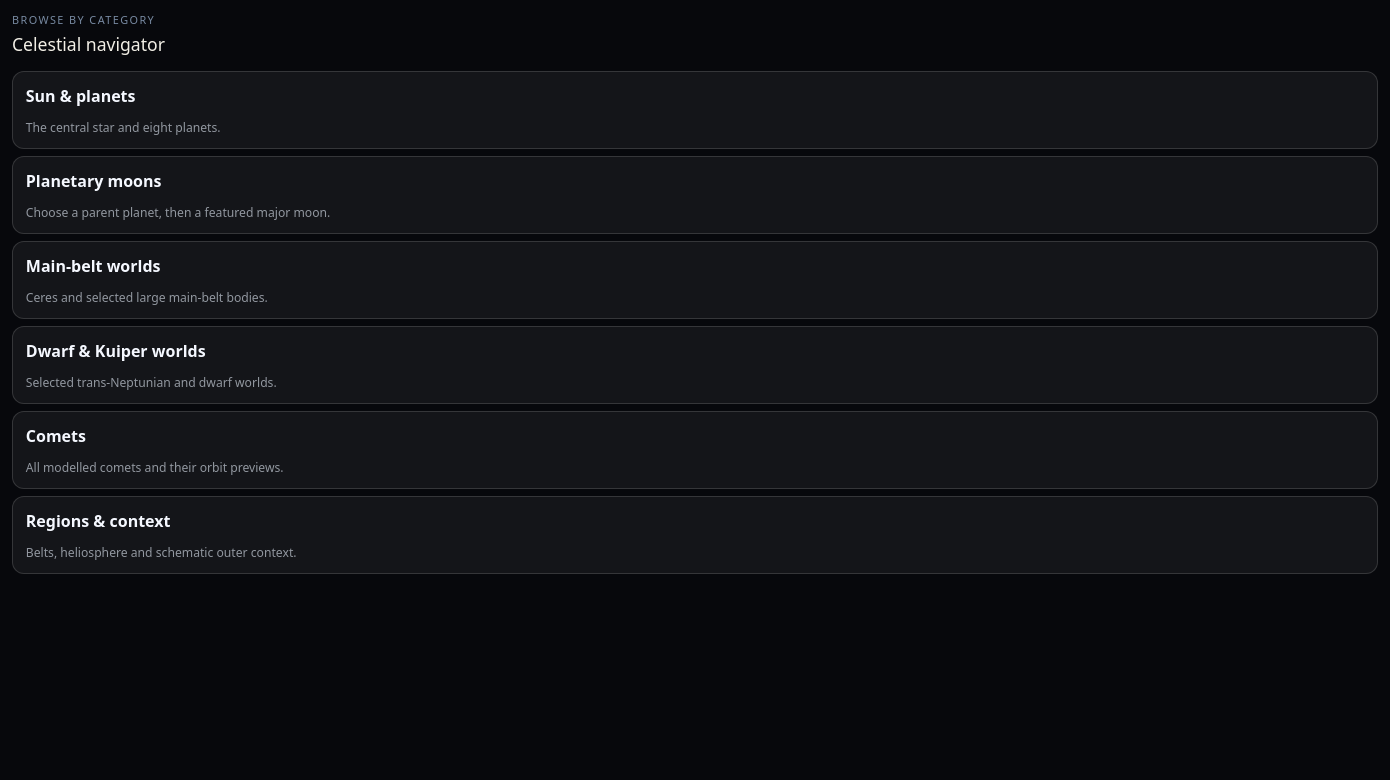
Test: CelestialNavigator › keeps non-active category items out of the DOM and restores category focus on Back
This screenshot has width=1390, height=780.
Expected: the button "Earth" is not shown
Click the button "Sun & planets The central star and eight planets." at (81, 96), box 12,71 -> 1378,149
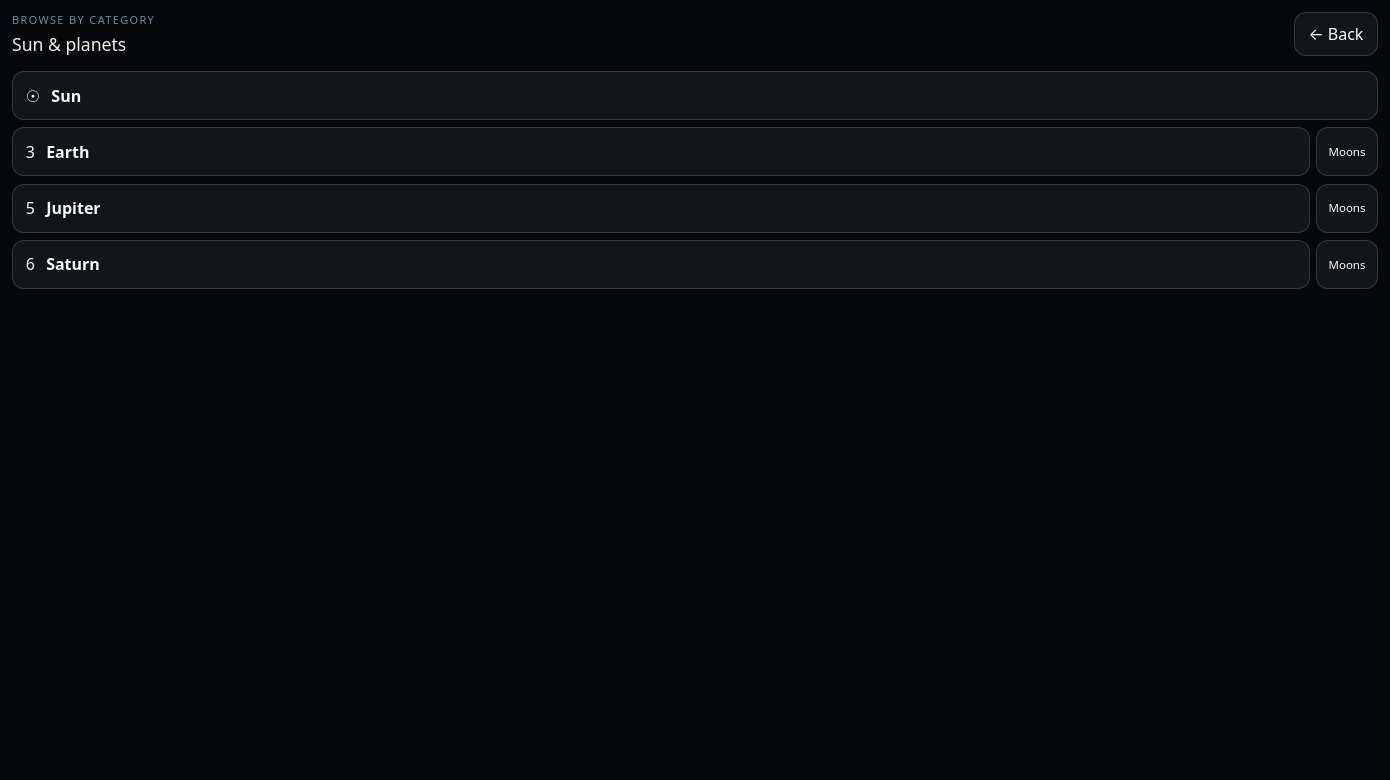
Now the button "3 Earth" is shown, box 12,127 -> 1310,176
Click the button "← Back" at (1336, 34), box 1294,12 -> 1378,56
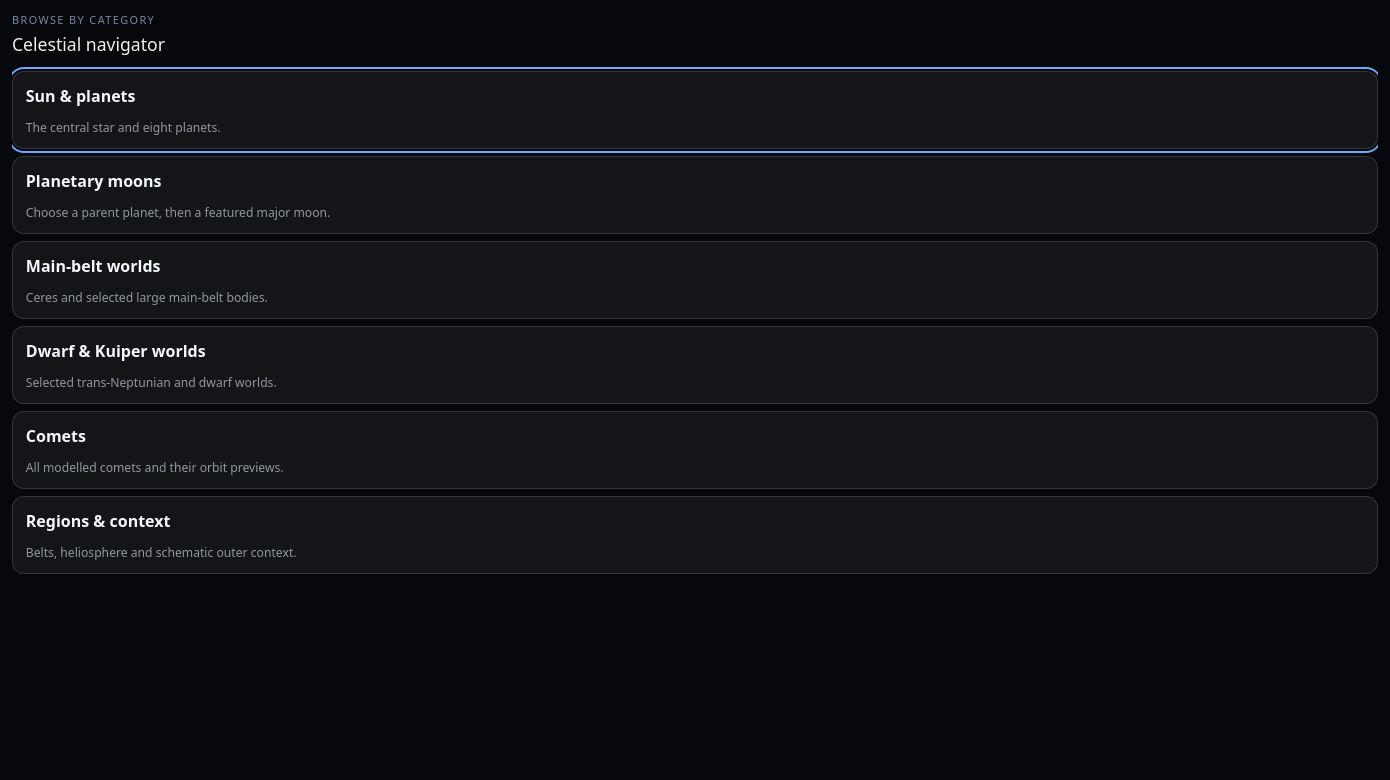
Now the button "Earth" is gone
